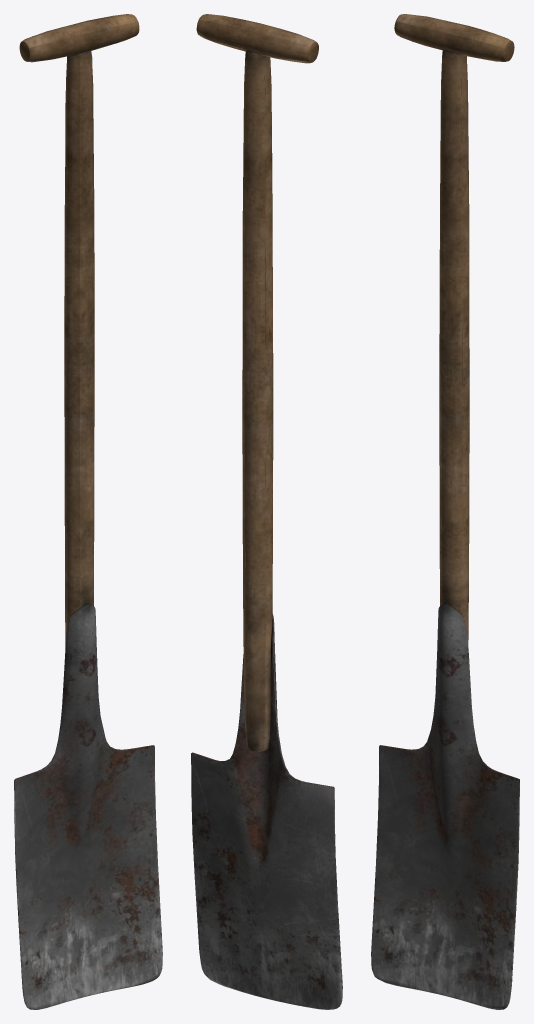
The model's file is spade.glb.
The picture shows the model from 3 angles, left to right: view 1: azimuth 30°, elevation 25°; view 2: azimuth 150°, elevation 25°; view 3: azimuth 330°, elevation 25°; orthographic projection. The views are drawn at different scales.
Visible parts, largest first — view 1: rusted_spade_01; view 2: rusted_spade_01; view 3: rusted_spade_01.
Boxes of the visible parts, bbox=[...] form: rusted_spade_01: bbox=[14, 14, 162, 1009]; rusted_spade_01: bbox=[191, 14, 342, 1009]; rusted_spade_01: bbox=[371, 14, 519, 1009].
Size of the model in its own units: 0.1682 by 1.1 by 0.0458.
Materials: 1 (1 with a texture image).
